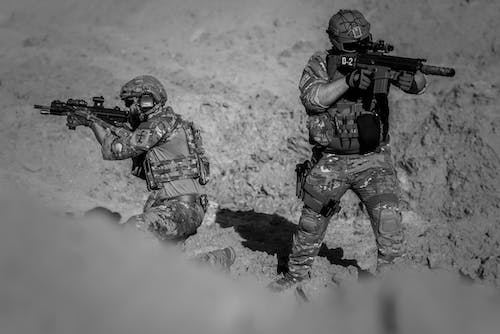gun: (325, 39, 456, 98), (33, 94, 131, 131)
